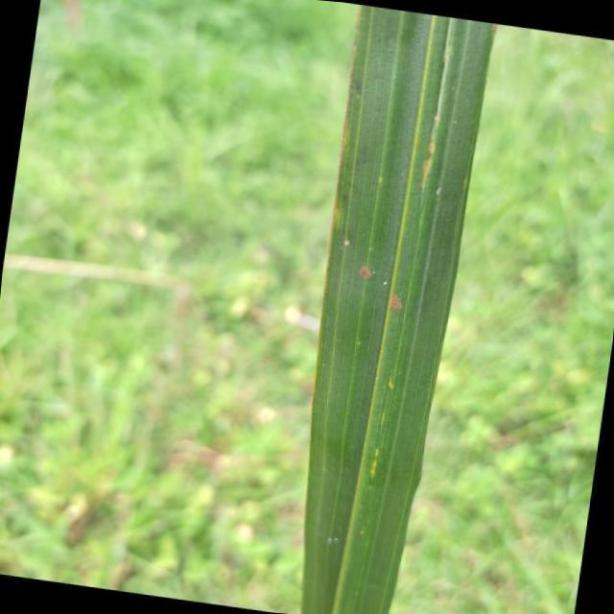Boron: (302, 0, 496, 614)
